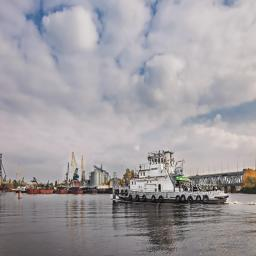tugboat: (112, 149, 231, 209)
